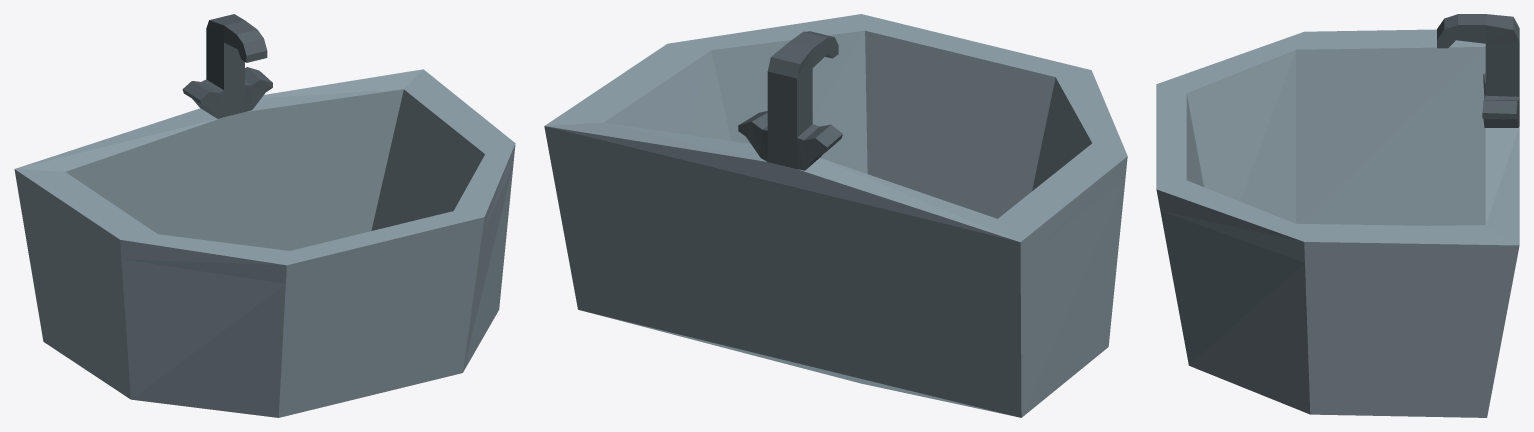
The model's file is sink.fbx.
3 views of the same model, side by side, from view 1: azimuth 30°, elevation 25°; view 2: azimuth 150°, elevation 25°; view 3: azimuth 270°, elevation 25° (orthographic). The views are drawn at different scales.
Parts seen in each view (by area): view 1: pCylinder1; view 2: pCylinder1; view 3: pCylinder1.
Boxes of the visible parts, x1,y1,x2,y2 form: pCylinder1: [14, 14, 515, 417]; pCylinder1: [544, 14, 1127, 417]; pCylinder1: [1156, 14, 1519, 417].
Bounding box in the file's own units: 2.07 × 1.59 × 1.46.
